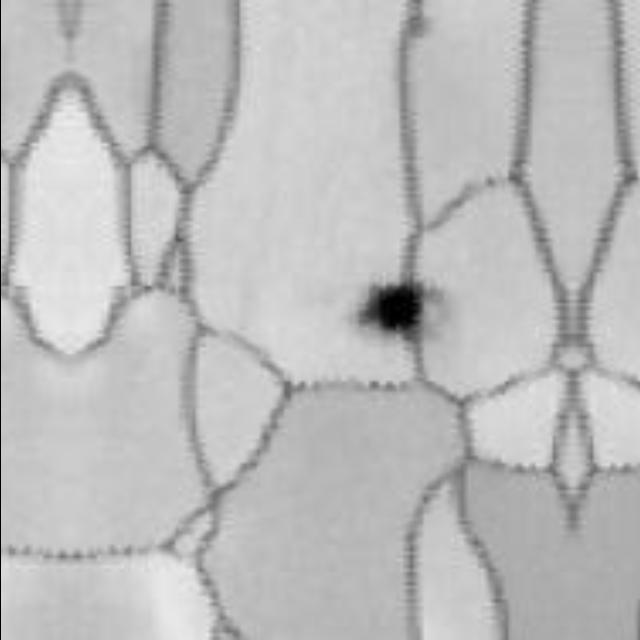good_void: (354, 276, 425, 342)
